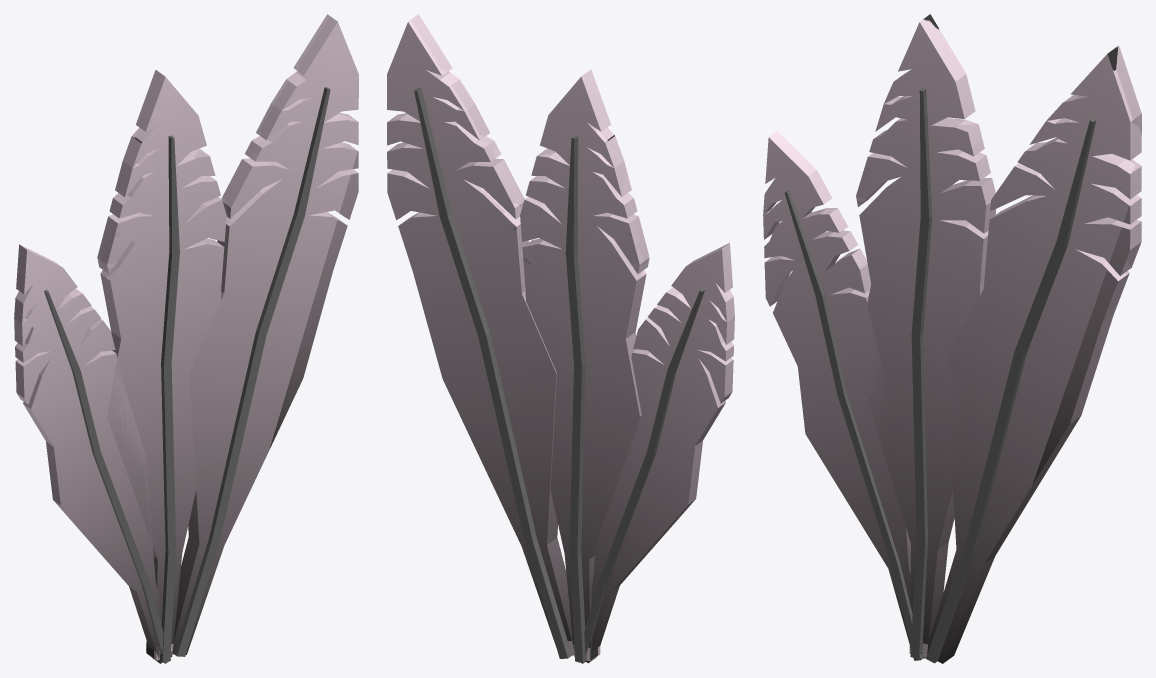
File: Feather.glb
3 views of the same model, side by side, from view 1: azimuth 30°, elevation 25°; view 2: azimuth 150°, elevation 25°; view 3: azimuth 330°, elevation 25° (orthographic). The views are drawn at different scales.
Parts seen in each view (by area): view 1: Plane.003, Plane, Plane.004, Plane.002, Plane.001, Plane.005; view 2: Plane.003, Plane, Plane.004, Plane.002, Plane.001, Plane.005; view 3: Plane.003, Plane, Plane.004, Plane.002, Plane.001, Plane.005.
Part boxes in pixels (bbox=[...]): Plane.003: bbox=[171, 14, 358, 654]; Plane: bbox=[97, 70, 226, 660]; Plane.004: bbox=[14, 244, 172, 663]; Plane.002: bbox=[174, 87, 330, 656]; Plane.001: bbox=[146, 135, 179, 661]; Plane.005: bbox=[44, 290, 170, 663]; Plane.003: bbox=[387, 14, 574, 655]; Plane: bbox=[520, 69, 649, 661]; Plane.004: bbox=[586, 243, 734, 663]; Plane.002: bbox=[414, 87, 571, 658]; Plane.001: bbox=[565, 135, 586, 663]; Plane.005: bbox=[581, 288, 704, 663]; Plane.003: bbox=[927, 45, 1141, 663]; Plane: bbox=[856, 14, 996, 657]; Plane.004: bbox=[763, 131, 925, 658]; Plane.002: bbox=[926, 118, 1096, 663]; Plane.001: bbox=[910, 88, 932, 658]; Plane.005: bbox=[784, 190, 923, 660].
Size of the model in its own units: 1.21 by 2.06 by 0.1095.
2 materials, 2 textured.
